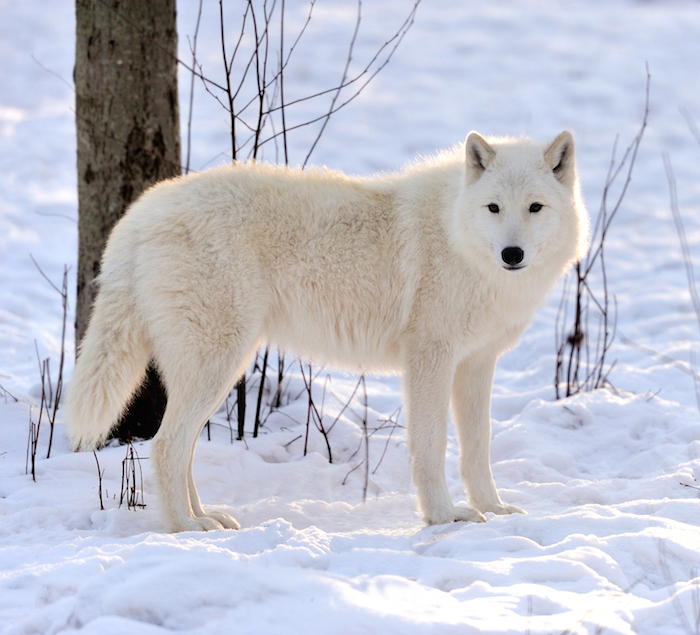wolf: (88, 137, 594, 532)
